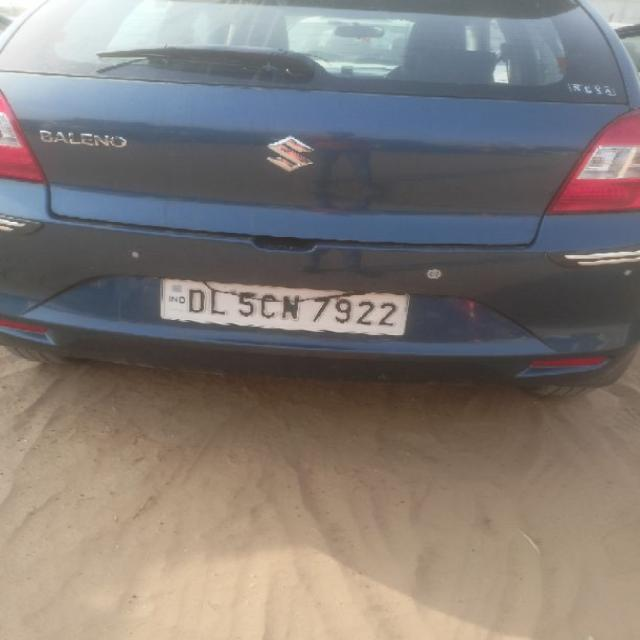license_plate: (158, 276, 410, 337)
